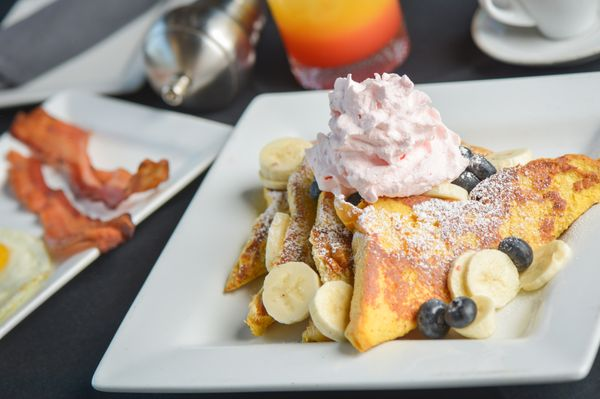pizza: (267, 2, 412, 91), (478, 0, 600, 42)
